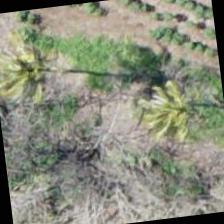Kelapa_Sawit: (122, 54, 222, 154), (0, 20, 77, 120)
